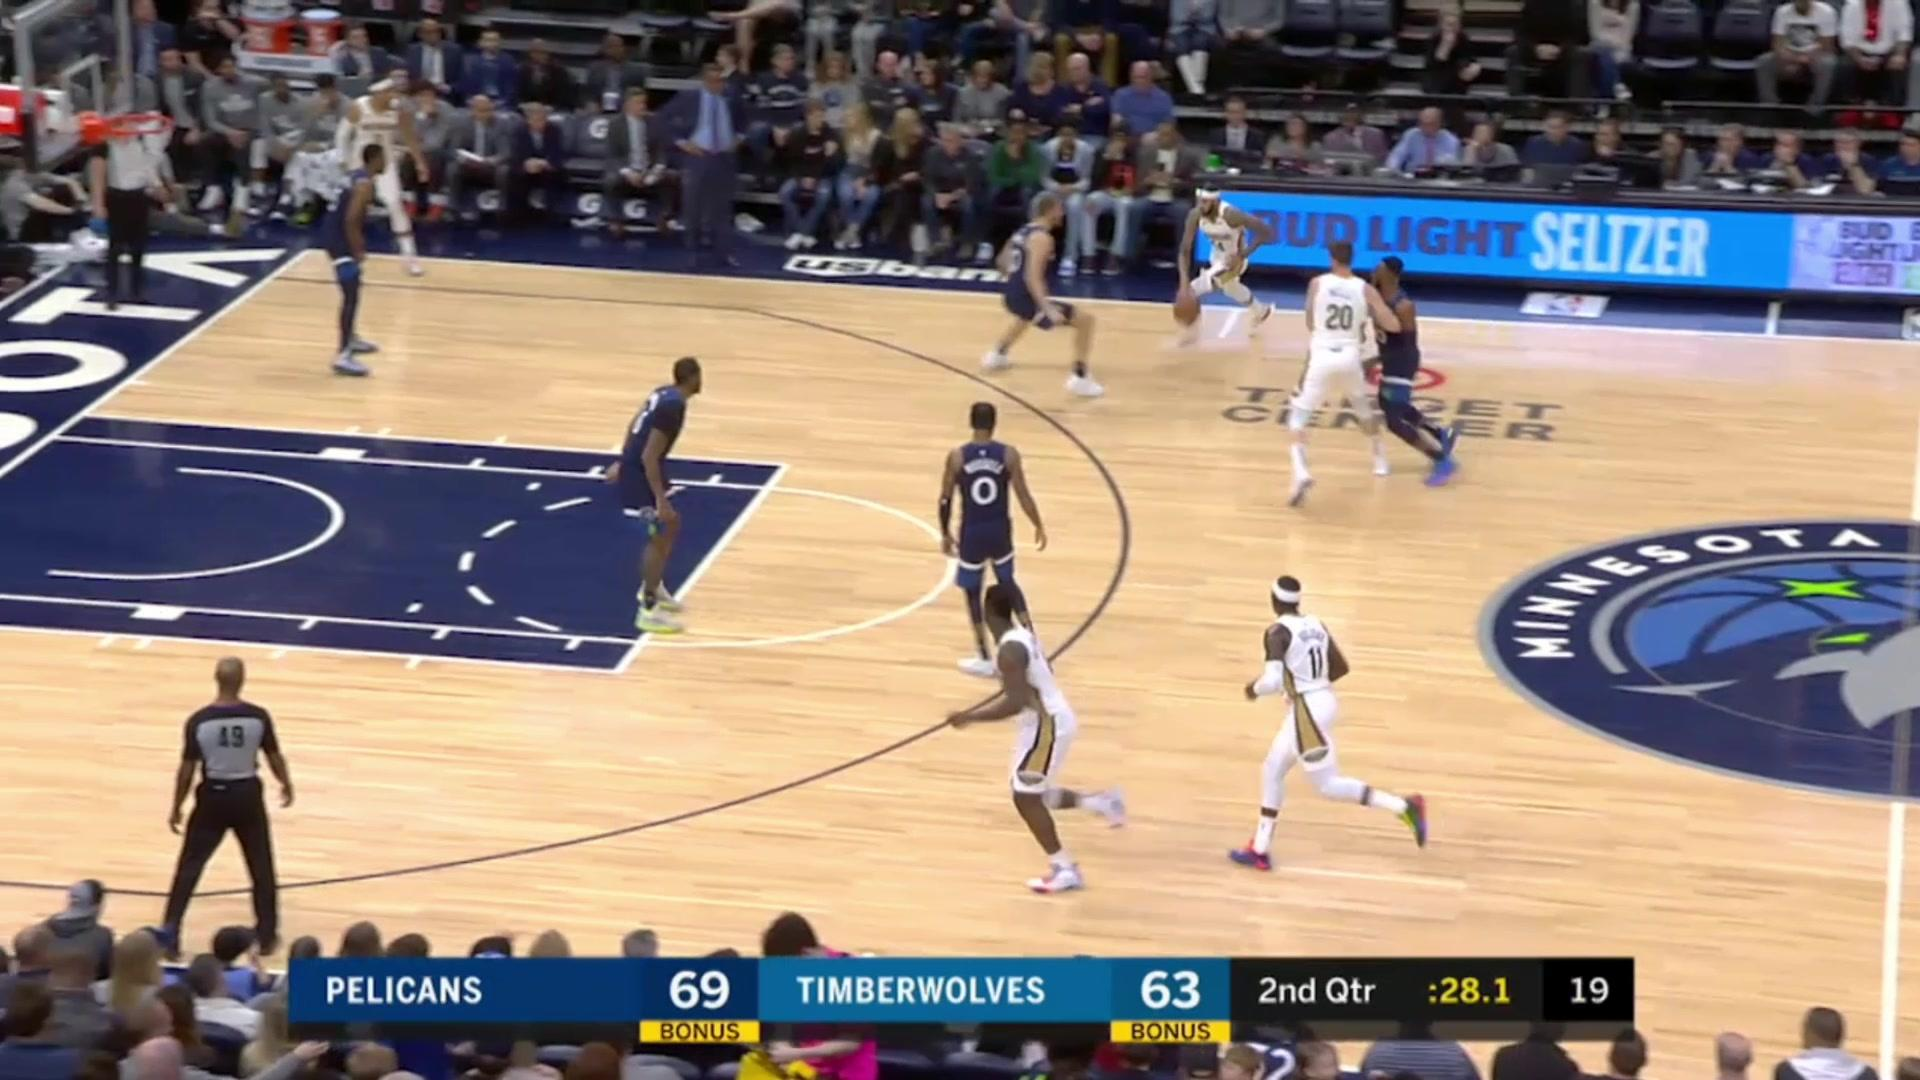no_foul: (1299, 225, 1457, 506)
